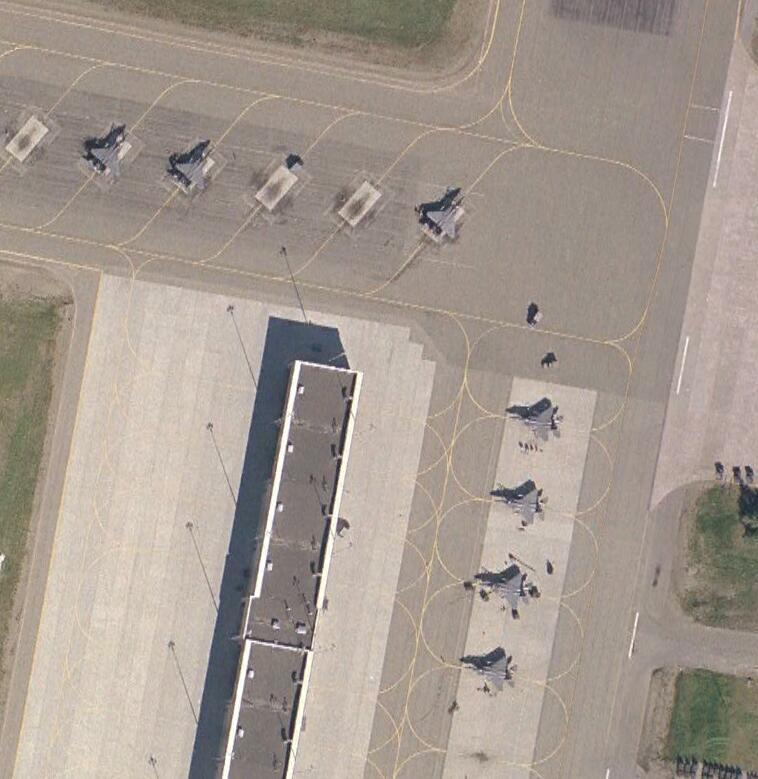A13: (462, 651, 523, 696), (420, 192, 470, 245), (508, 402, 567, 443), (478, 572, 535, 613), (492, 487, 550, 526), (88, 133, 132, 181), (173, 146, 217, 192)
